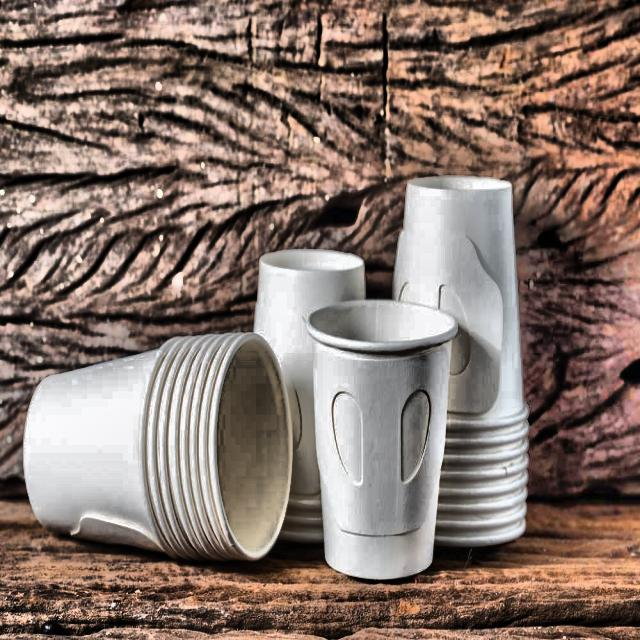Cup: (21, 326, 298, 582), (380, 160, 536, 548), (245, 235, 382, 570), (303, 294, 454, 586)
